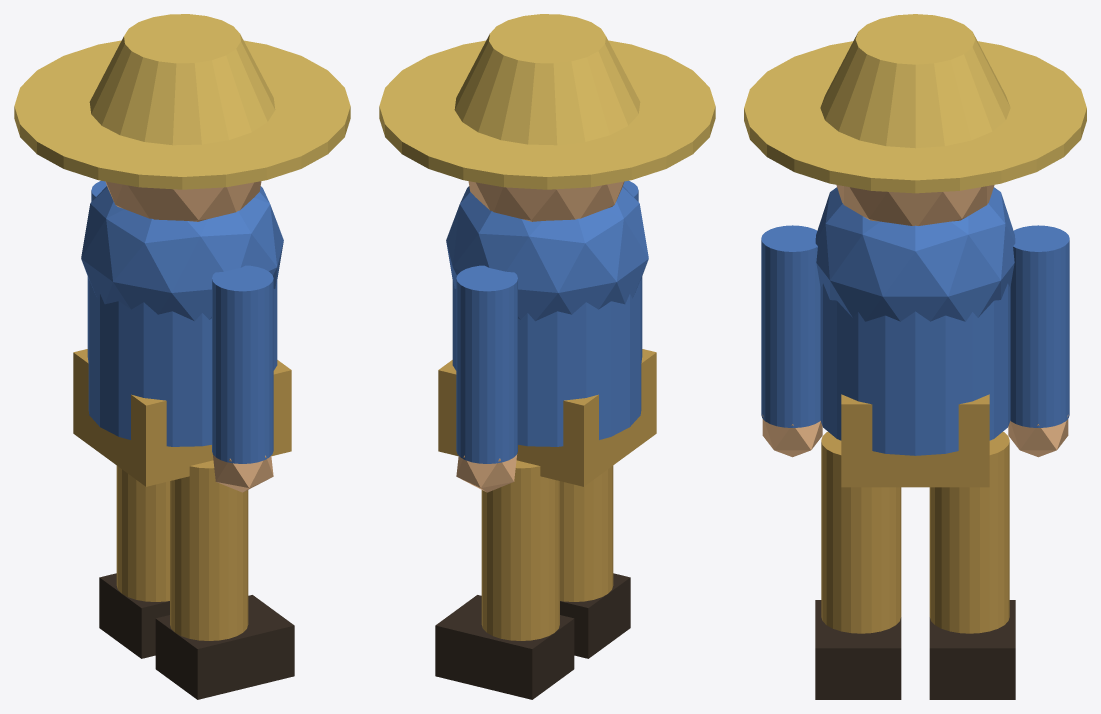
The model's file is farmer.glb.
The picture shows the model from 3 angles, left to right: view 1: azimuth 30°, elevation 25°; view 2: azimuth 150°, elevation 25°; view 3: azimuth 270°, elevation 25°; orthographic projection.
Visible parts, largest first — view 1: __exp_farmer; view 2: __exp_farmer; view 3: __exp_farmer.
Boxes of the visible parts, <box> form: __exp_farmer: <box>14,14,350,699</box>; __exp_farmer: <box>379,14,715,699</box>; __exp_farmer: <box>744,14,1086,699</box>.
Size of the model in its own units: 0.48 by 0.972 by 0.48.
